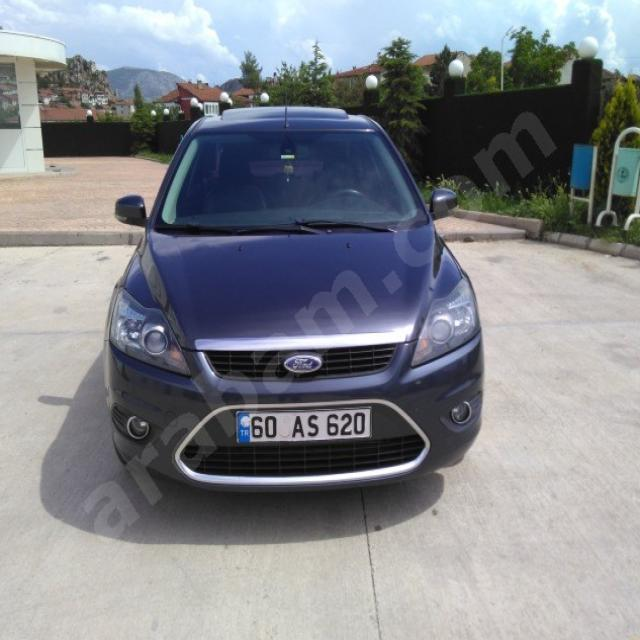license_plate: (236, 407, 372, 444)
